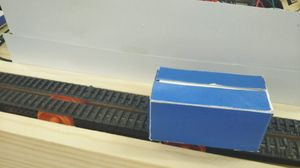box3: (144, 64, 274, 153)
